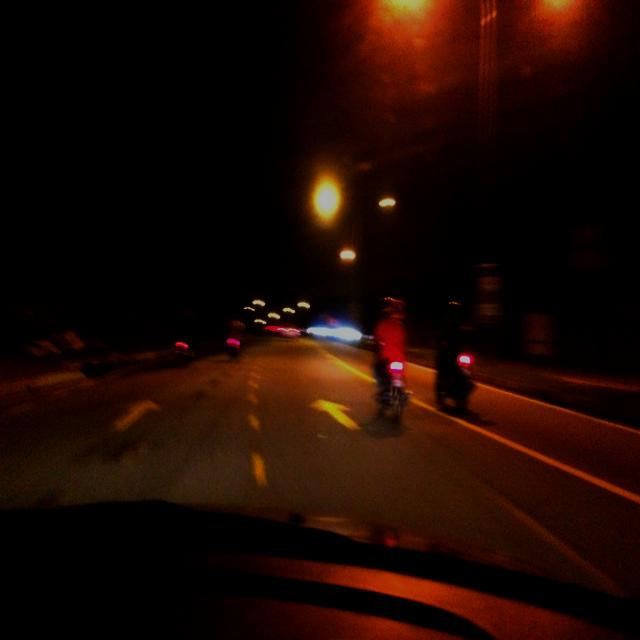Motorbike: (435, 298, 482, 412), (370, 337, 410, 424), (215, 305, 251, 365), (172, 312, 197, 362)
